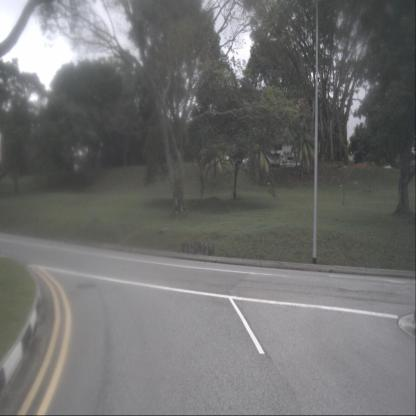vehicle-car: (287, 156, 296, 167), (383, 163, 392, 170)
vehicle-truck: (271, 152, 282, 168)
